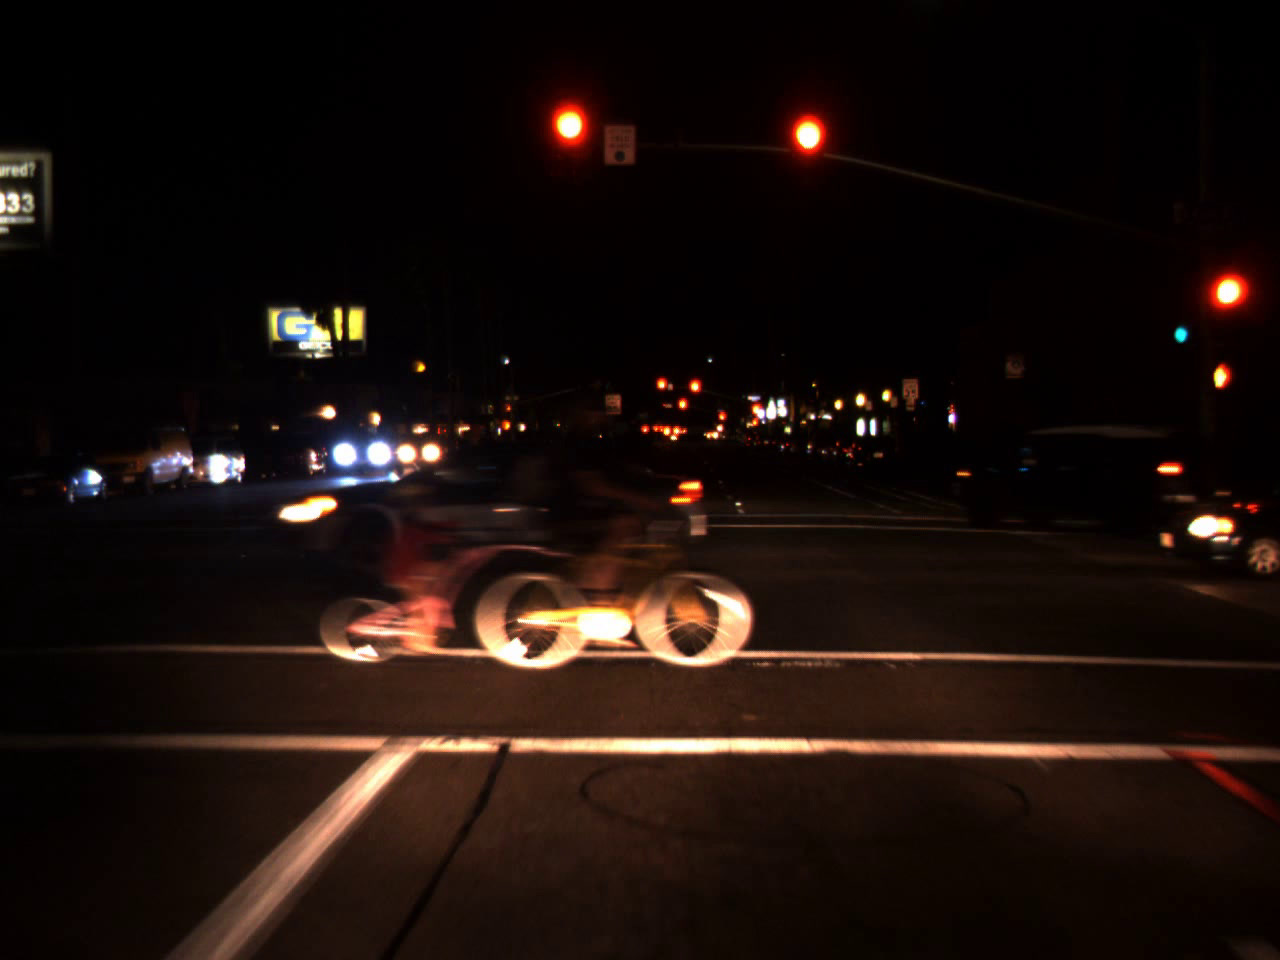stop: (1206, 273, 1249, 340), (789, 115, 826, 190), (552, 107, 588, 182), (687, 377, 702, 409), (747, 400, 763, 427), (655, 376, 668, 400), (677, 396, 689, 423), (717, 410, 726, 431), (503, 402, 512, 418)
